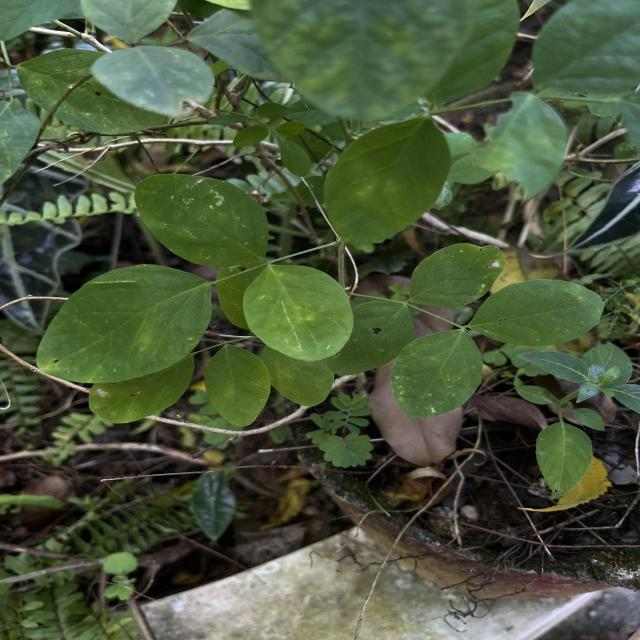Clitoria ternatea: (34, 262, 212, 384), (134, 172, 270, 268), (242, 264, 355, 362), (467, 278, 605, 348), (390, 328, 484, 419)
